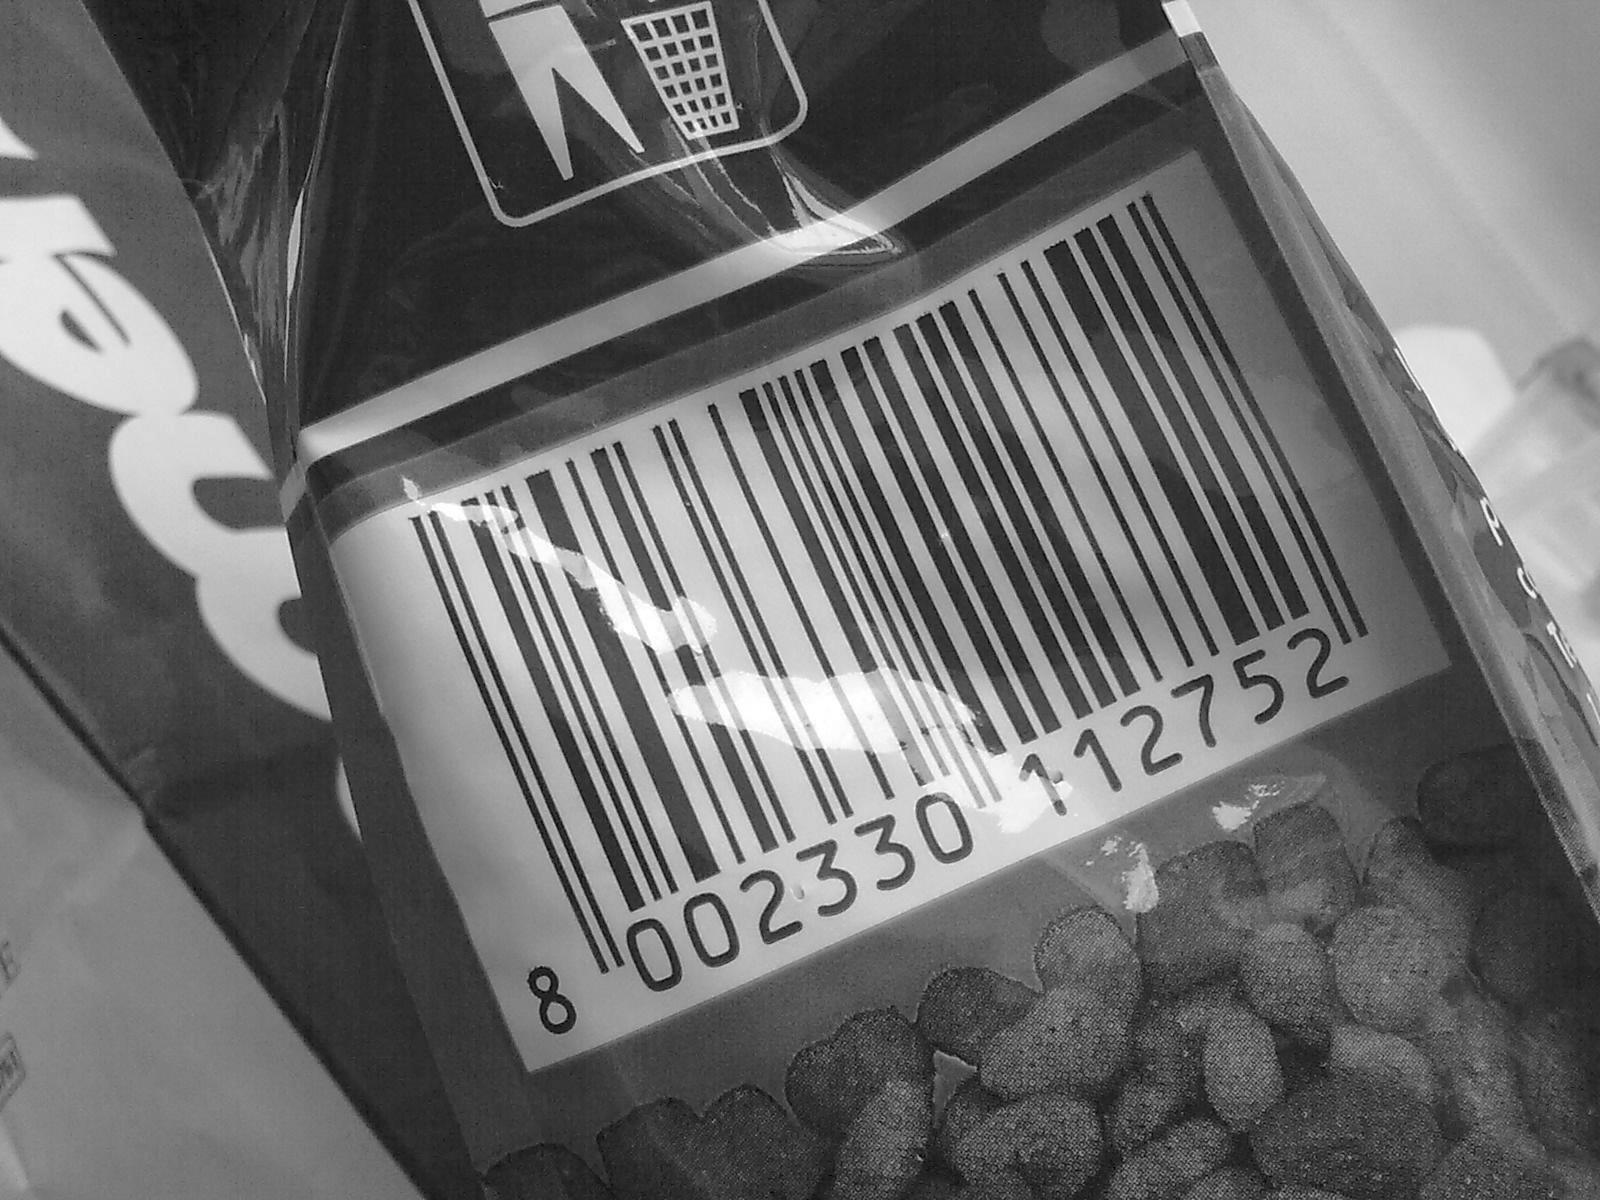Barcode: (413, 166, 1303, 940)
